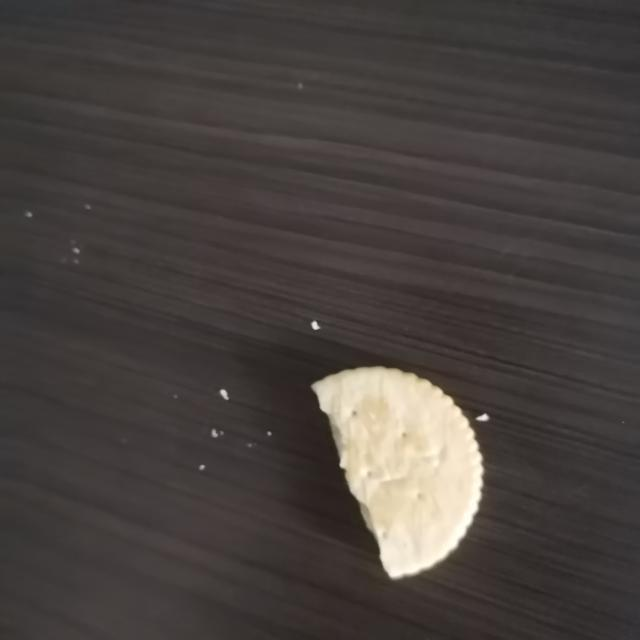Broken: (310, 364, 485, 580)
